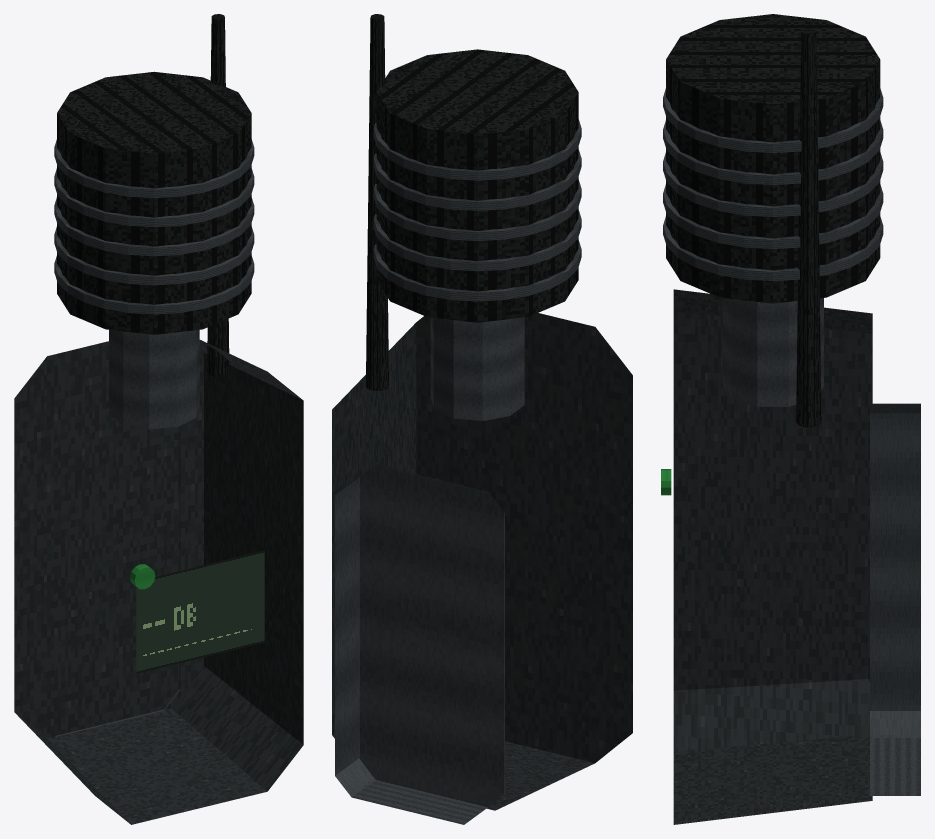
Rendered from blender_sound_sensor_3.glb.
3 renders of one model, left to right at view 1: azimuth 30°, elevation 25°; view 2: azimuth 150°, elevation 25°; view 3: azimuth 270°, elevation 25°, orthographic. The views are drawn at different scales.
Visible parts, largest first — view 1: blender_sound_sensor_3; view 2: blender_sound_sensor_3; view 3: blender_sound_sensor_3.
Part boxes in pixels (x1,y1,x2,y2): blender_sound_sensor_3: [14, 14, 303, 824]; blender_sound_sensor_3: [332, 14, 632, 824]; blender_sound_sensor_3: [661, 14, 920, 824].
Size of the model in its own units: 0.052 by 0.1732 by 0.051.
5 materials, 5 textured.
